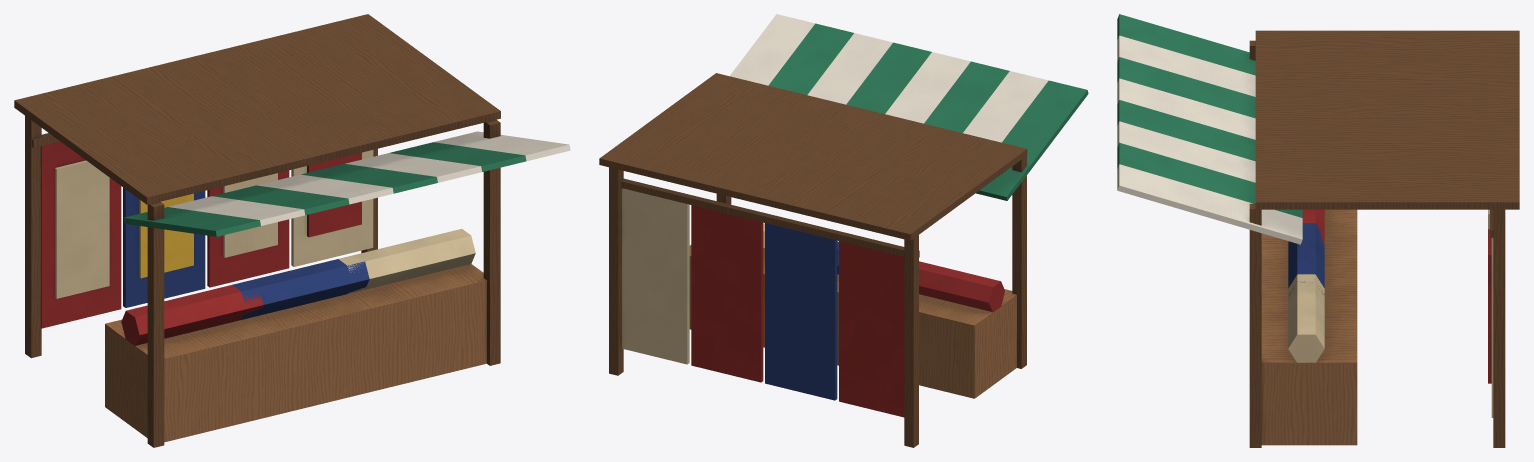
Rendered from basar_mattor_tex.glb.
The picture shows the model from 3 angles, left to right: view 1: azimuth 30°, elevation 25°; view 2: azimuth 150°, elevation 25°; view 3: azimuth 270°, elevation 25°; orthographic projection. The views are drawn at different scales.
Parts seen in each view (by area): view 1: basar_mattor; view 2: basar_mattor; view 3: basar_mattor.
Part boxes in pixels (x1=…): basar_mattor: x1=14, y1=14, x2=570, y2=447; basar_mattor: x1=599, y1=14, x2=1088, y2=447; basar_mattor: x1=1117, y1=14, x2=1519, y2=447.
Bounding box in the file's own units: 4 × 2.87 × 3.96.
8 materials, 8 textured.
